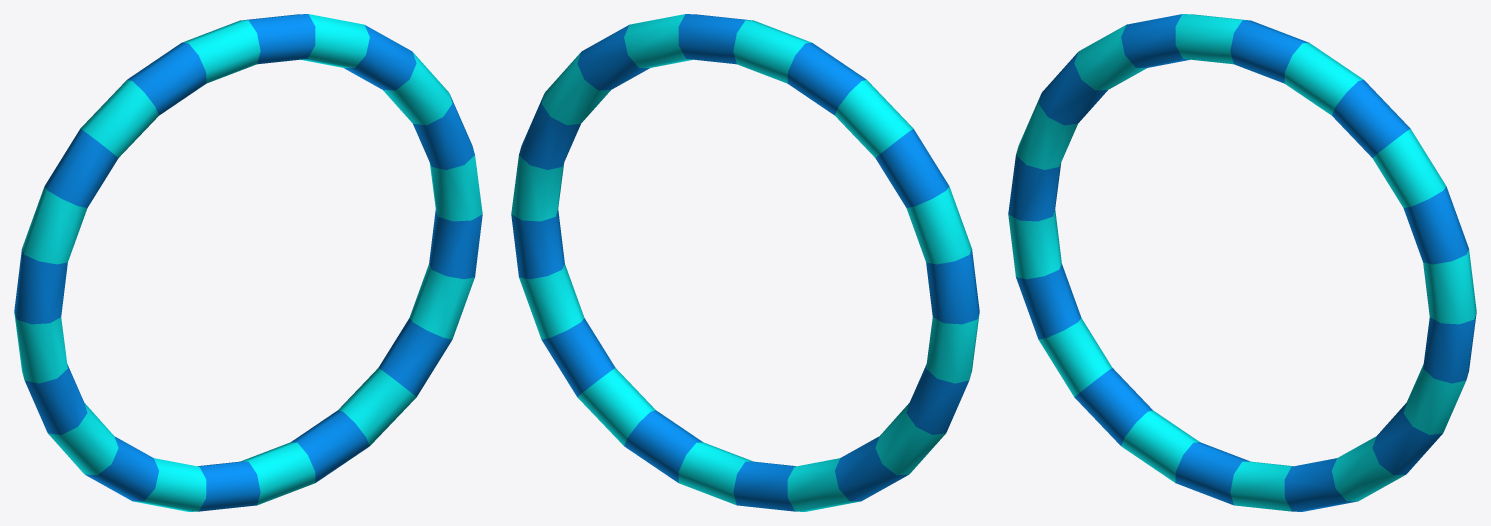
Rendered from D_FBX_14_Ring_B.fbx.
3 renders of one model, left to right at view 1: azimuth 30°, elevation 25°; view 2: azimuth 150°, elevation 25°; view 3: azimuth 330°, elevation 25°, orthographic.
Parts seen in each view (by area): view 1: D_FBX_14_Ring_B; view 2: D_FBX_14_Ring_B; view 3: D_FBX_14_Ring_B.
Boxes of the visible parts, x1,y1,x2,y2 form: D_FBX_14_Ring_B: (14, 14, 482, 511); D_FBX_14_Ring_B: (511, 14, 979, 511); D_FBX_14_Ring_B: (1008, 14, 1476, 511).
Bounding box in the file's own units: 220 × 220 × 20.
